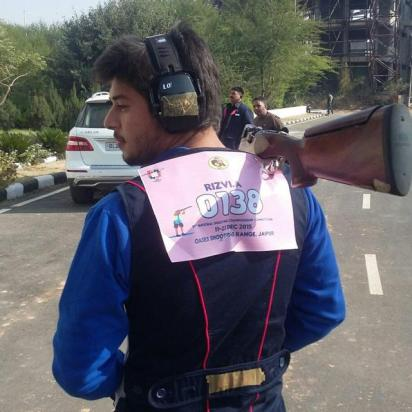Gun: (236, 100, 412, 199)
